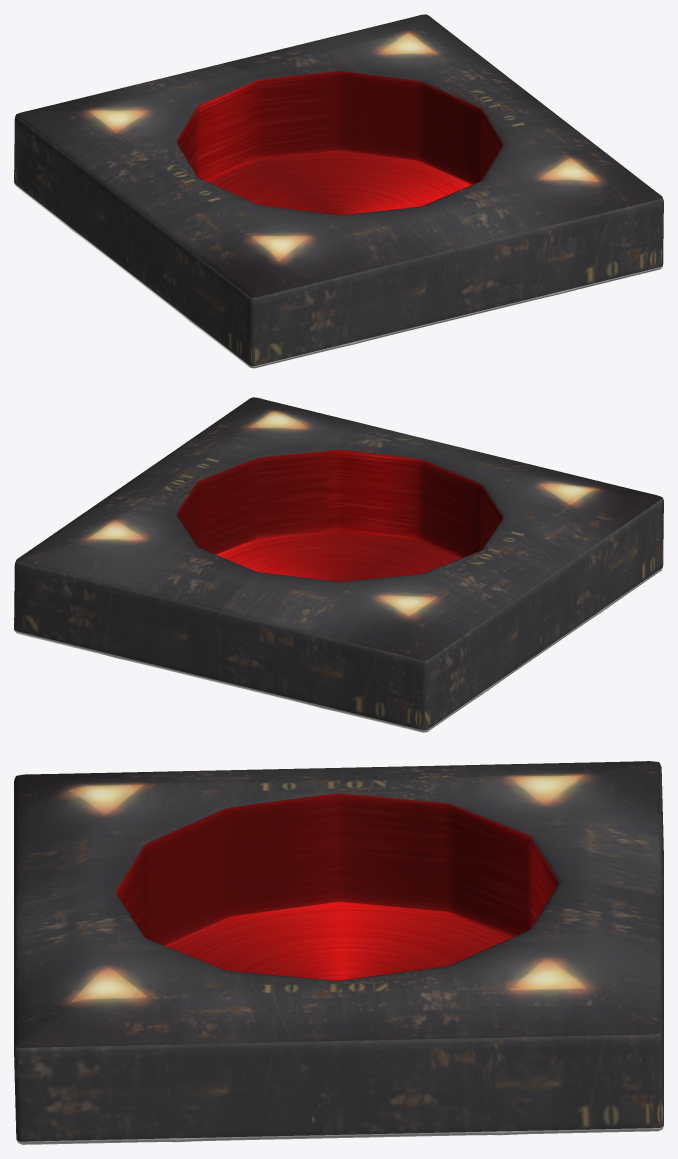
Rendered from BuzzerBox.fbx.
3 renders of one model, top to bottom at view 1: azimuth 30°, elevation 25°; view 2: azimuth 150°, elevation 25°; view 3: azimuth 270°, elevation 25°, orthographic. The views are drawn at different scales.
Visible parts, largest first — view 1: BuzzerBox; view 2: BuzzerBox; view 3: BuzzerBox.
Boxes of the visible parts, x1,y1,x2,y2 form: BuzzerBox: (14,14,663,368); BuzzerBox: (14,397,663,732); BuzzerBox: (14,761,663,1144).
Size of the model in its own units: 250 by 55.12 by 251.
